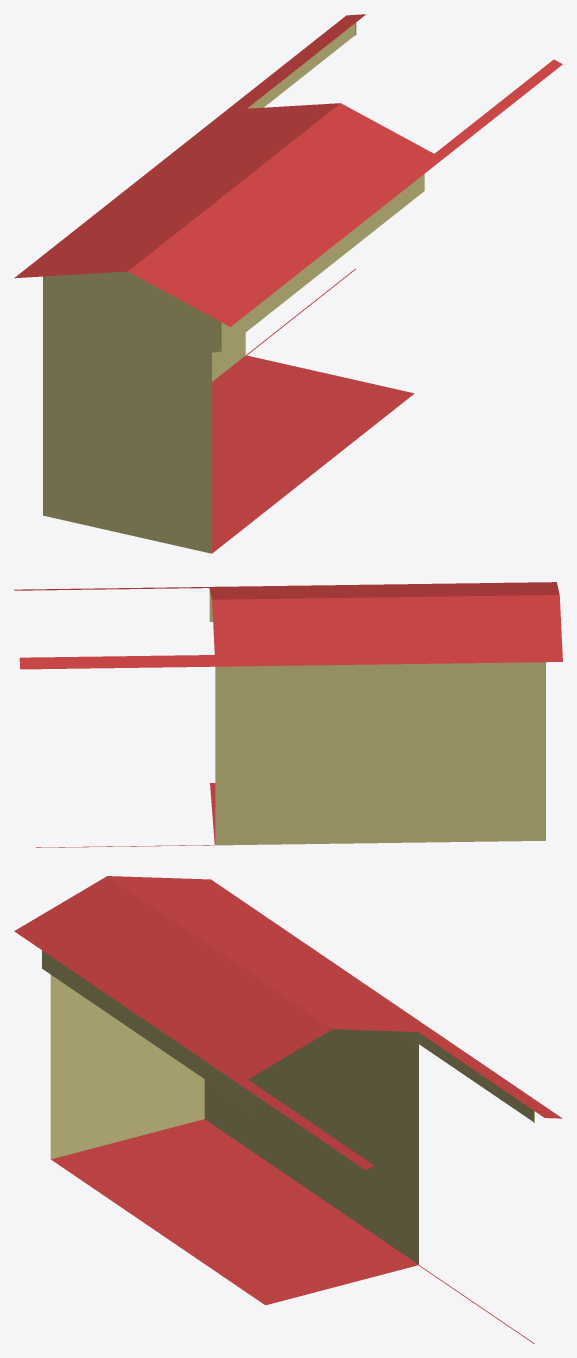
The picture shows the model from 3 angles, top to bottom: view 1: azimuth 30°, elevation 25°; view 2: azimuth 150°, elevation 25°; view 3: azimuth 270°, elevation 25°; orthographic projection. The views are drawn at different scales.
Size of the model in its own units: 25.45 by 20.29 by 10.54.
